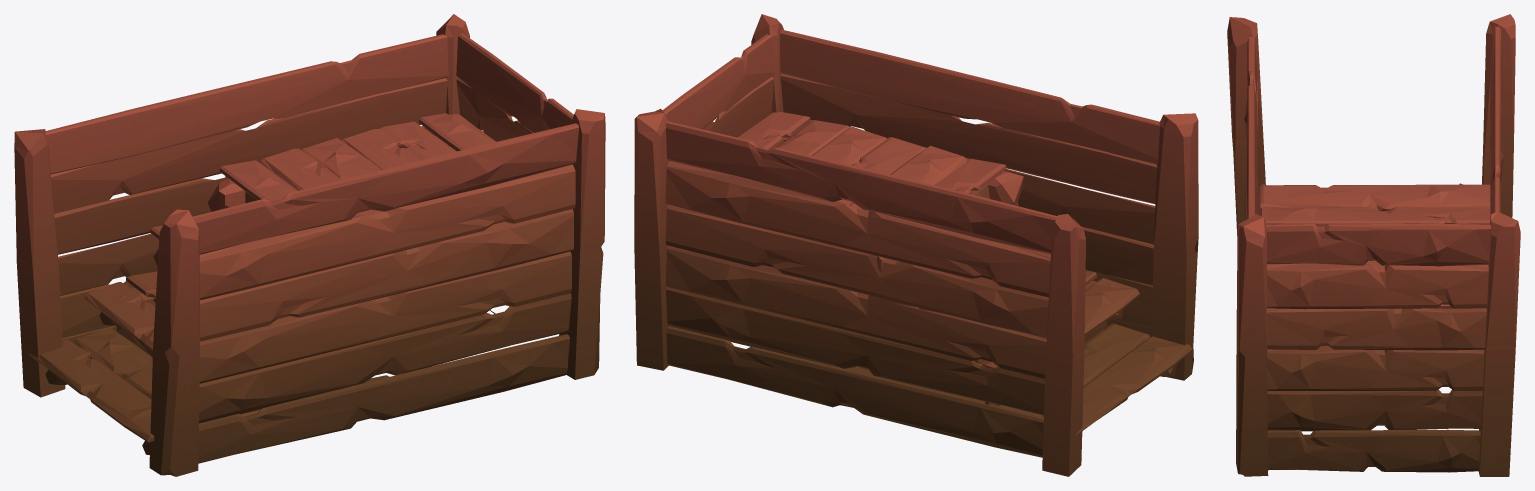
The picture shows the model from 3 angles, left to right: view 1: azimuth 30°, elevation 25°; view 2: azimuth 150°, elevation 25°; view 3: azimuth 270°, elevation 25°; orthographic projection.
Visible parts, largest first — view 1: WoodenWall_TowerLong; view 2: WoodenWall_TowerLong; view 3: WoodenWall_TowerLong.
Part boxes in pixels (x1,y1,x2,y2): WoodenWall_TowerLong: (14,14,605,476); WoodenWall_TowerLong: (634,14,1198,476); WoodenWall_TowerLong: (1227,14,1520,476).
Bounding box in the file's own units: 5.3 × 2.92 × 2.97.
1 material, 1 textured.
